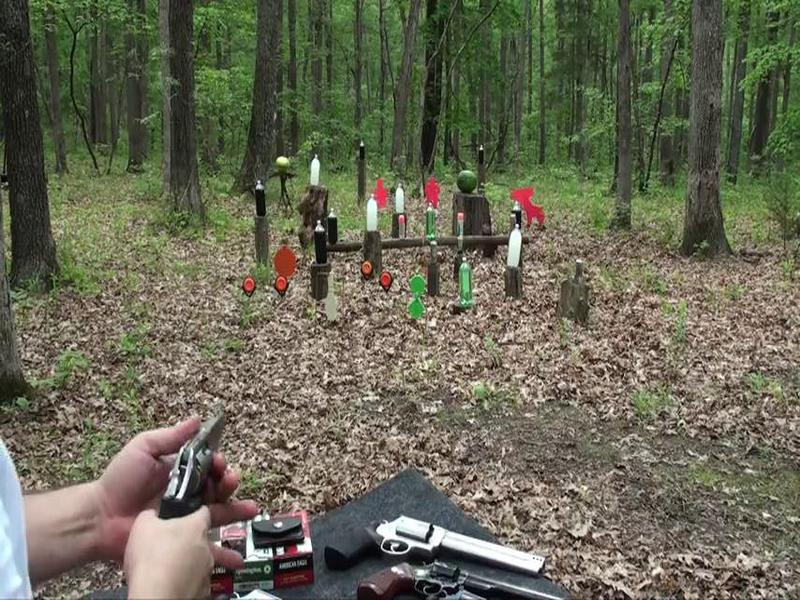Revolver: (121, 402, 240, 528)
